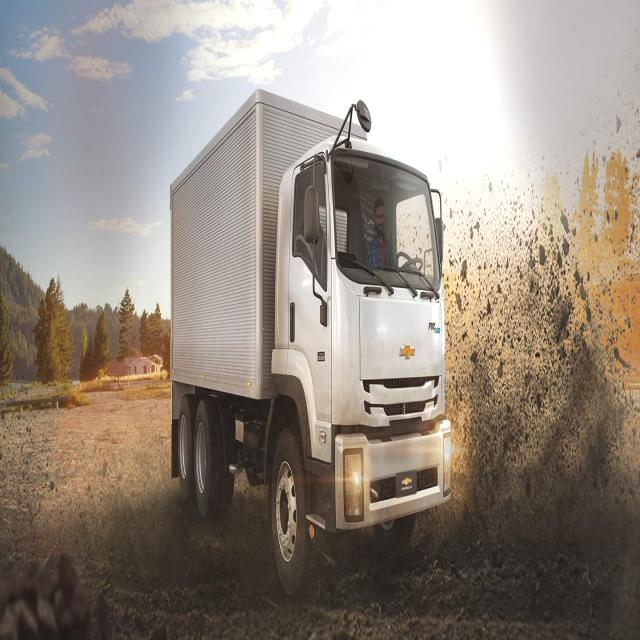TRUCK: (168, 87, 450, 608)
